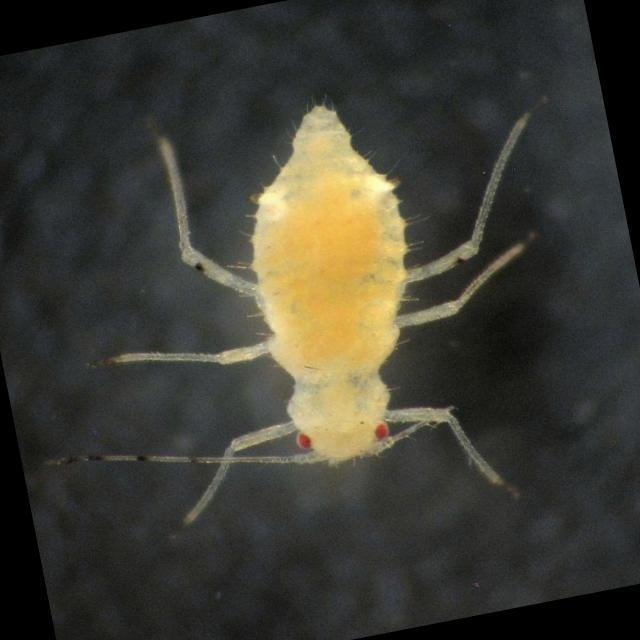aphid: (42, 66, 612, 556)
